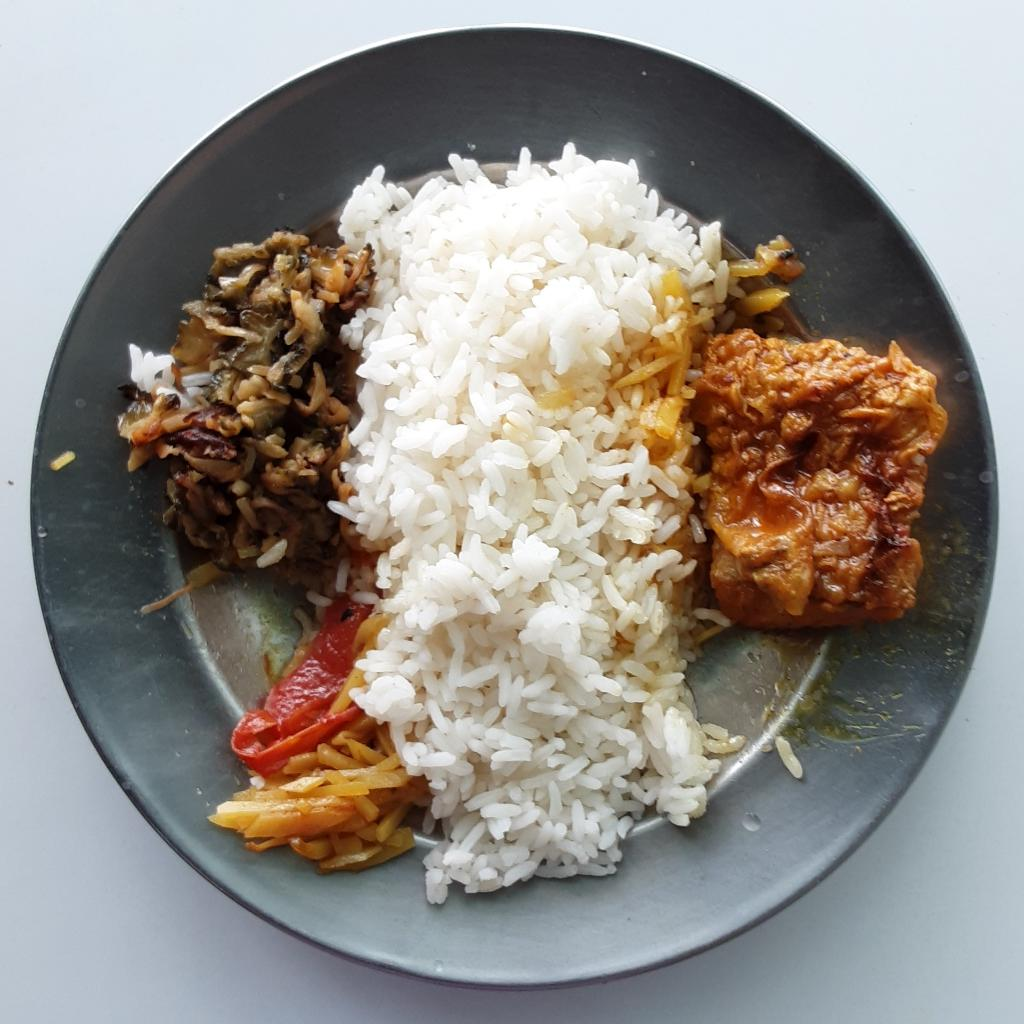fish: (674, 330, 949, 633)
korola-vaji: (115, 229, 375, 611)
potato: (201, 606, 432, 875), (616, 230, 804, 438)
rice: (294, 139, 747, 906), (127, 341, 223, 406)
tomato: (232, 591, 370, 762)
